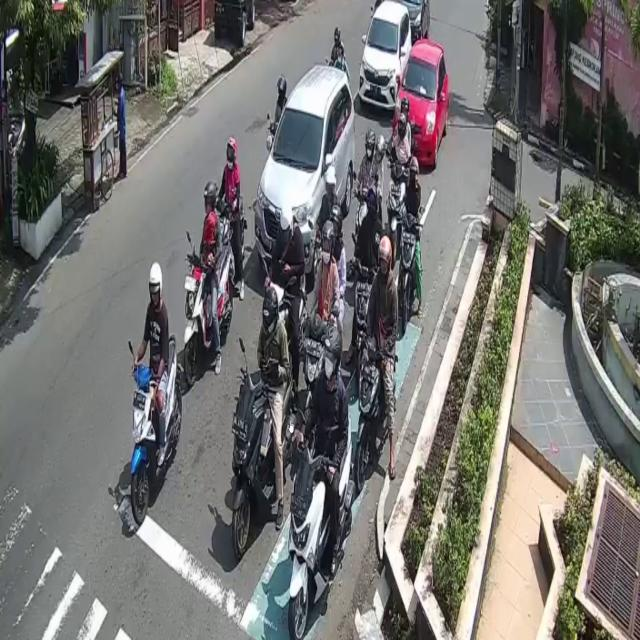bus: (289, 411, 354, 640), (233, 360, 295, 559), (130, 332, 182, 527), (181, 240, 231, 385), (359, 343, 399, 489), (397, 212, 418, 333)
motorcycle: (255, 63, 356, 273), (393, 39, 449, 168), (358, 1, 412, 118), (399, 0, 430, 52)
